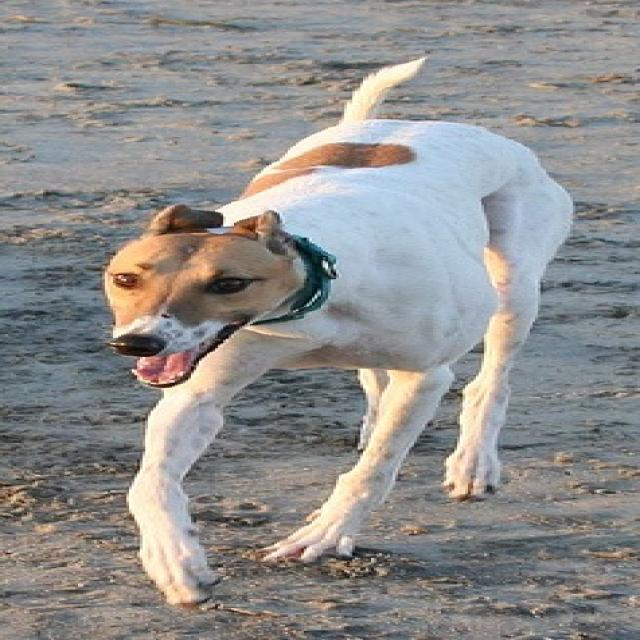dog: (94, 54, 581, 605)
